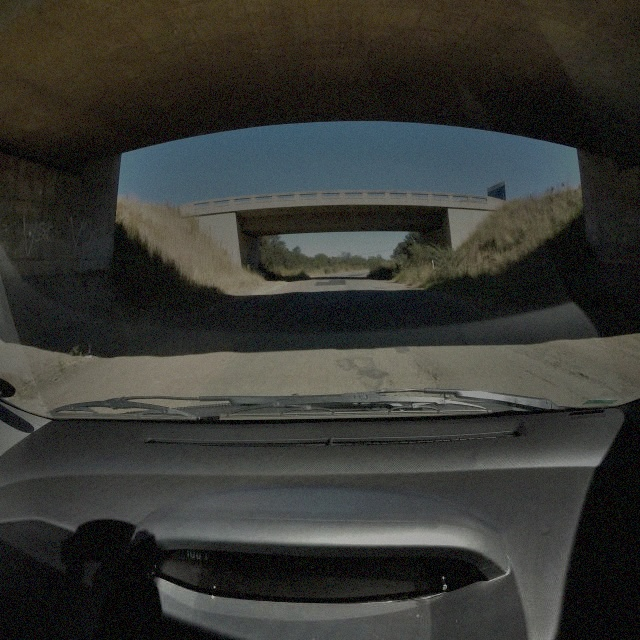pothole: (567, 367, 589, 381)
